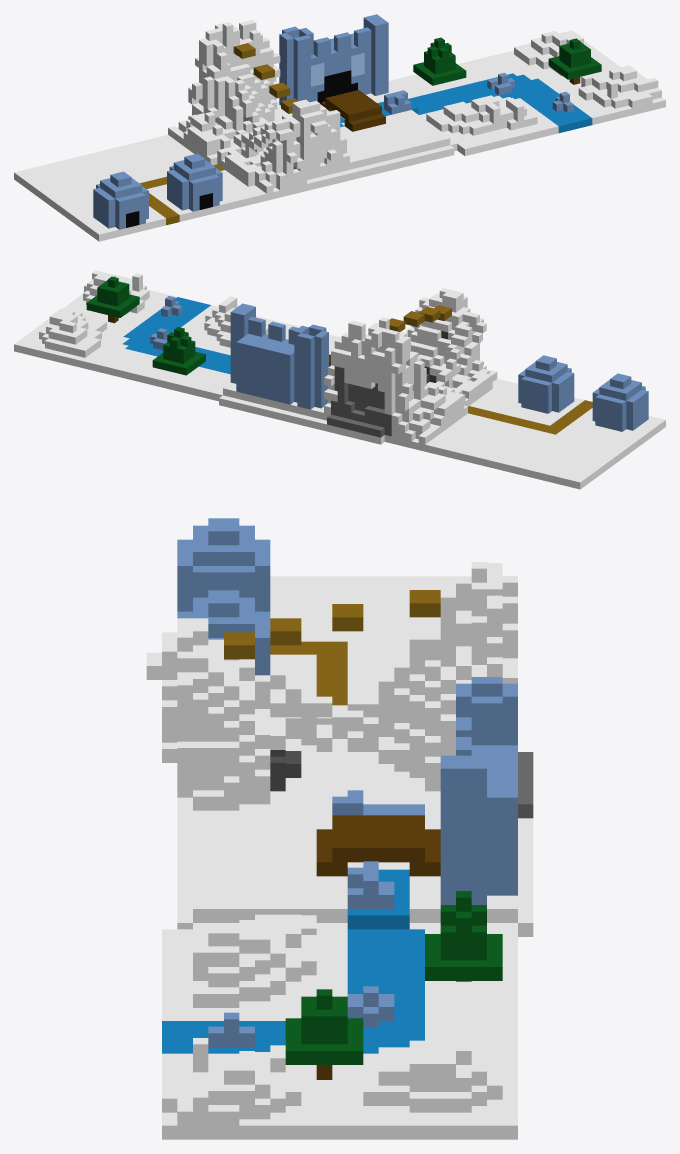
The model's file is World Ice PART 3.gltf.
The picture shows the model from 3 angles, top to bottom: view 1: azimuth 30°, elevation 25°; view 2: azimuth 150°, elevation 25°; view 3: azimuth 270°, elevation 25°; orthographic projection. The views are drawn at different scales.
Visible parts, largest first — view 1: Layer.2, Layer.1, Layer.3; view 2: Layer.2, Layer.1, Layer.3; view 3: Layer.1, Layer.3, Layer.2.
Boxes of the visible parts, left/top/right/bottom form: Layer.2: left=14, top=29, right=297, bottom=241; Layer.1: left=212, top=14, right=457, bottom=193; Layer.3: left=388, top=30, right=665, bottom=155; Layer.2: left=384, top=311, right=665, bottom=489; Layer.1: left=216, top=288, right=470, bottom=444; Layer.3: left=14, top=270, right=299, bottom=400; Layer.1: left=146, top=562, right=533, bottom=936; Layer.3: left=162, top=891, right=517, bottom=1139; Layer.2: left=177, top=518, right=502, bottom=751.
Size of the model in its own units: 84 by 16 by 25.
Materials: 1 (1 with a texture image).
